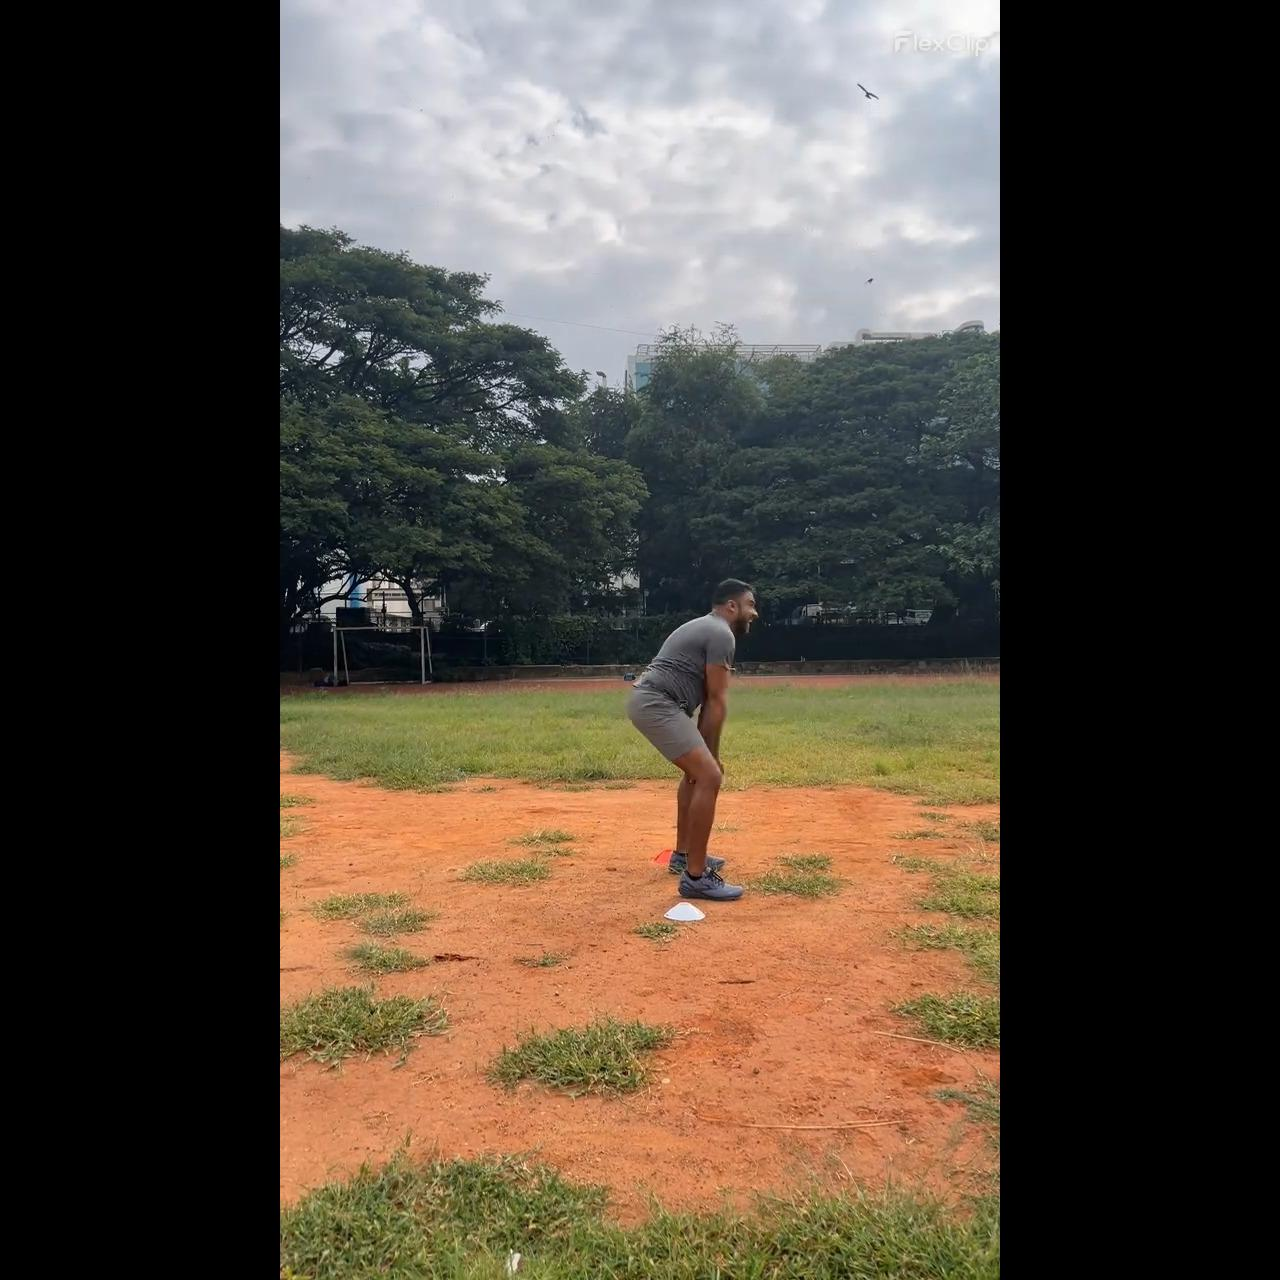Athelete: (620, 579, 758, 904)
